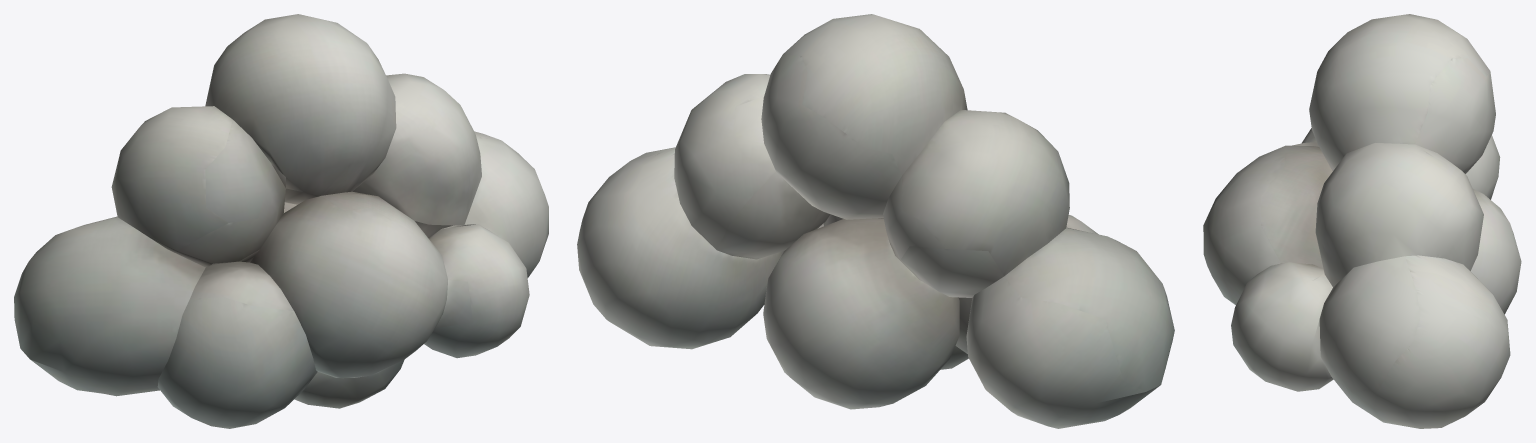
File: cloud.glb
3 views of the same model, side by side, from view 1: azimuth 30°, elevation 25°; view 2: azimuth 150°, elevation 25°; view 3: azimuth 270°, elevation 25° (orthographic). The views are drawn at different scales.
Parts seen in each view (by area): view 1: model; view 2: model; view 3: model.
Boxes of the visible parts, left/top/right/bottom form: model: left=14, top=14, right=548, bottom=428; model: left=577, top=14, right=1174, bottom=428; model: left=1203, top=14, right=1521, bottom=428.
Bounding box in the file's own units: 1.9 × 1.2 × 1.03.
1 material, 1 textured.
